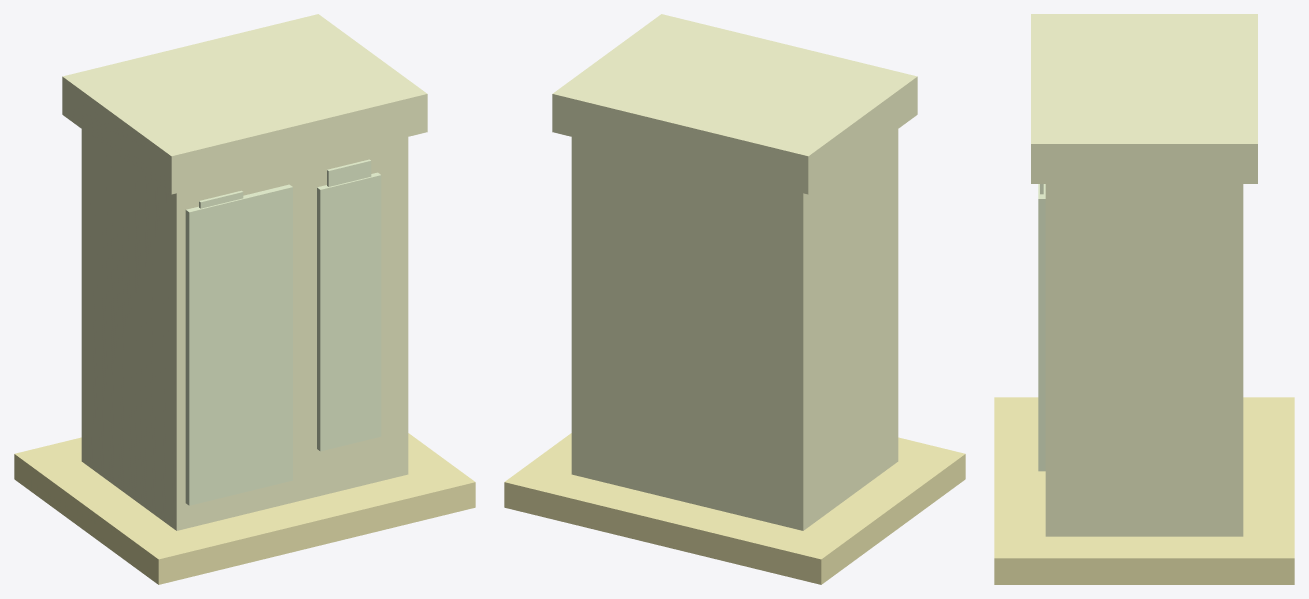
File: furniture_utility_transformer_padmount.glb
The picture shows the model from 3 angles, left to right: view 1: azimuth 30°, elevation 25°; view 2: azimuth 150°, elevation 25°; view 3: azimuth 270°, elevation 25°; orthographic projection. The views are drawn at different scales.
Visible parts, largest first — view 1: body, hood, door_large, pad, door_small, vent_right; view 2: body, hood, pad; view 3: body, hood, pad, door_small.
Boxes of the visible parts, <box> form: body: <box>81,129,408,530</box>; hood: <box>62,14,427,194</box>; door_large: <box>185,184,292,505</box>; pad: <box>14,433,475,584</box>; door_small: <box>317,172,381,451</box>; vent_right: <box>327,159,371,186</box>; body: <box>571,129,898,530</box>; hood: <box>552,14,917,194</box>; pad: <box>504,433,965,584</box>; body: <box>1045,184,1243,536</box>; hood: <box>1031,14,1257,183</box>; pad: <box>994,397,1294,584</box>; door_small: <box>1038,184,1045,471</box>.
Bounding box in the file's own units: 1.04 × 1.28 × 0.82.
